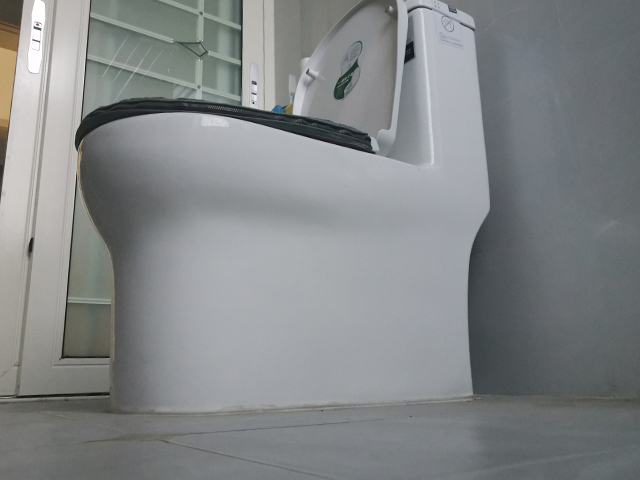closetool: (71, 1, 494, 416)
